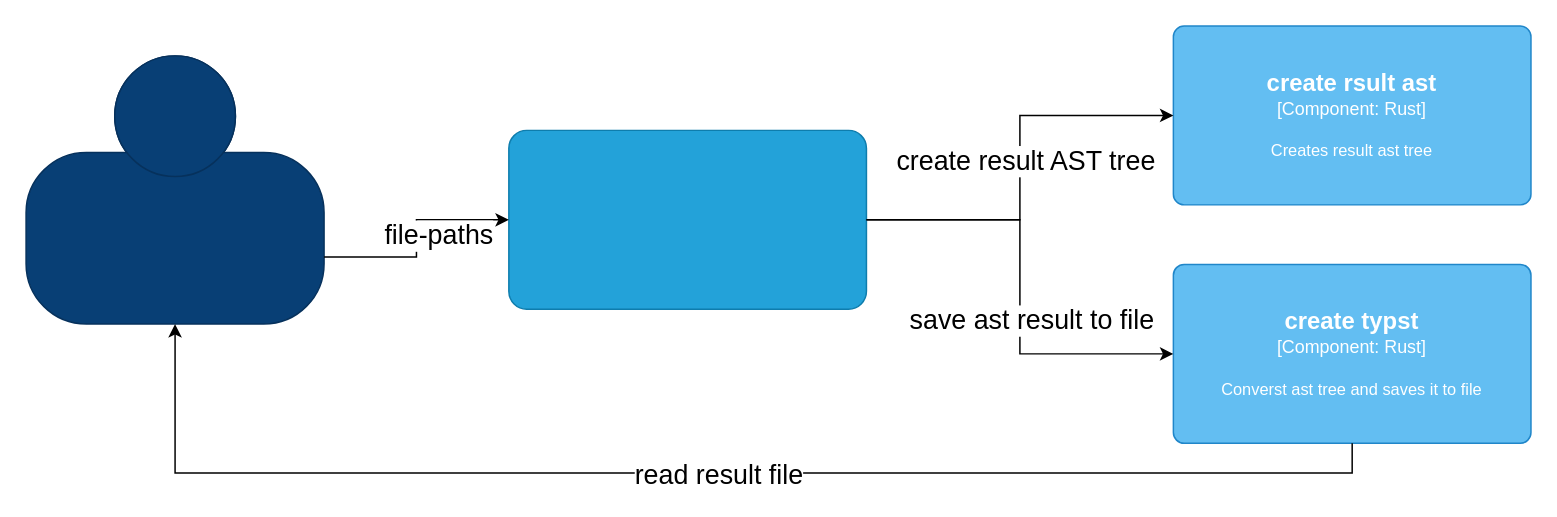
The diagram is 1557 pixels wide and 517 high, and some of its shapes have lost their labels. Each missing label, with the box of its shape:
main [Component: rust] Main: (507, 129, 866, 309)
User [Person]: (25, 54, 324, 324)
